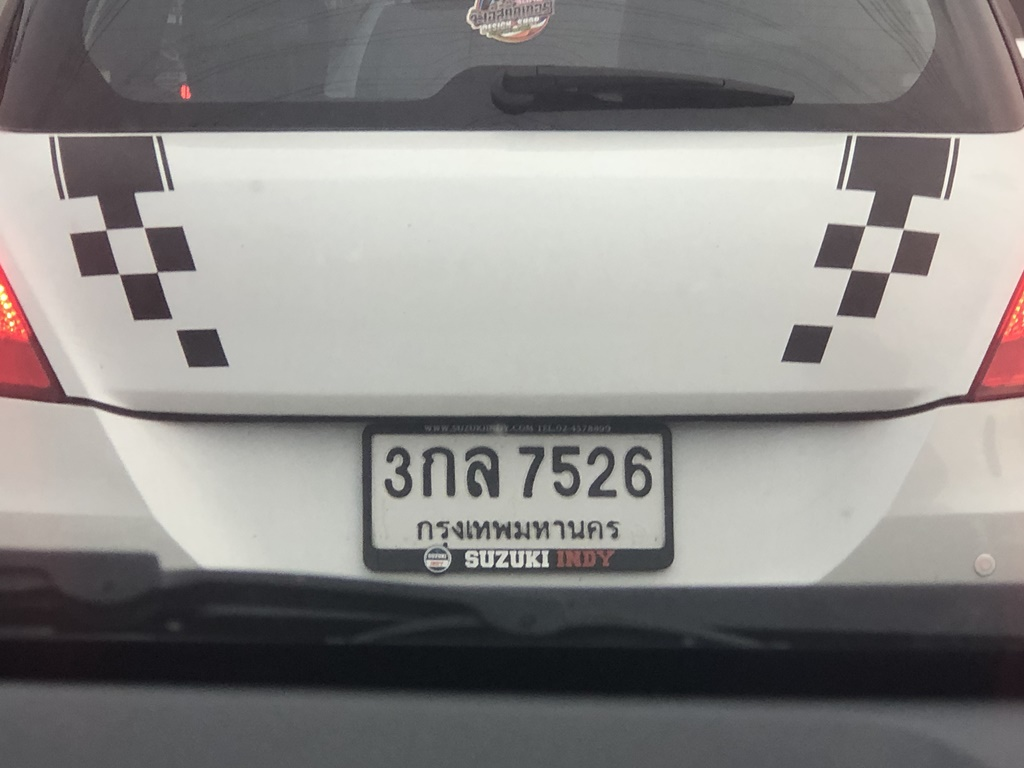plate: (361, 421, 671, 560)
